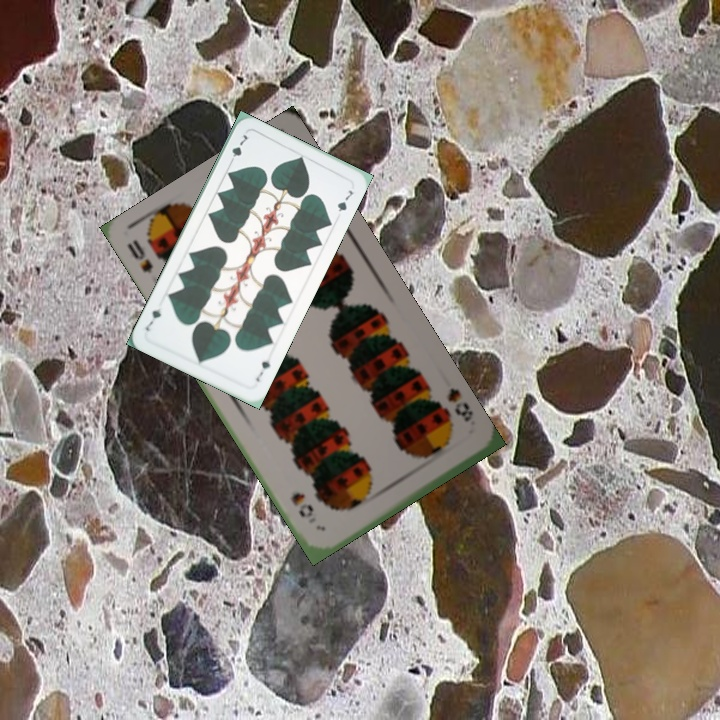G7: (225, 130, 250, 167), (251, 356, 273, 384)
S8: (443, 384, 476, 425), (123, 235, 156, 276)
